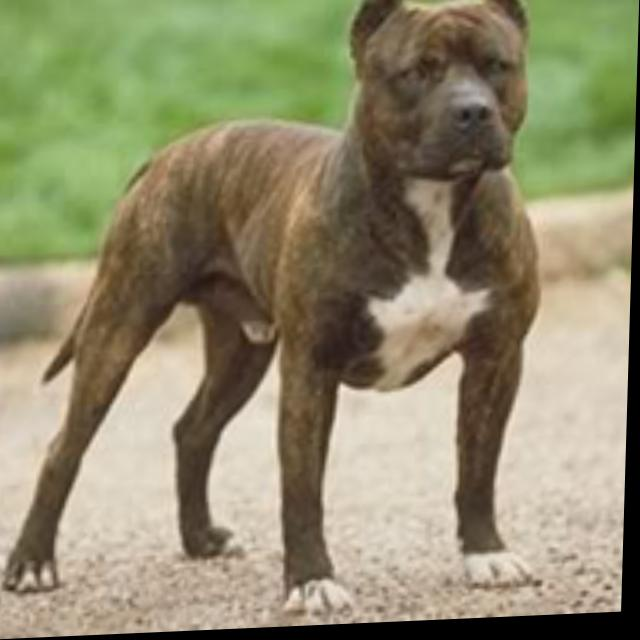am_pit_bull_terrier: (2, 1, 557, 630)
